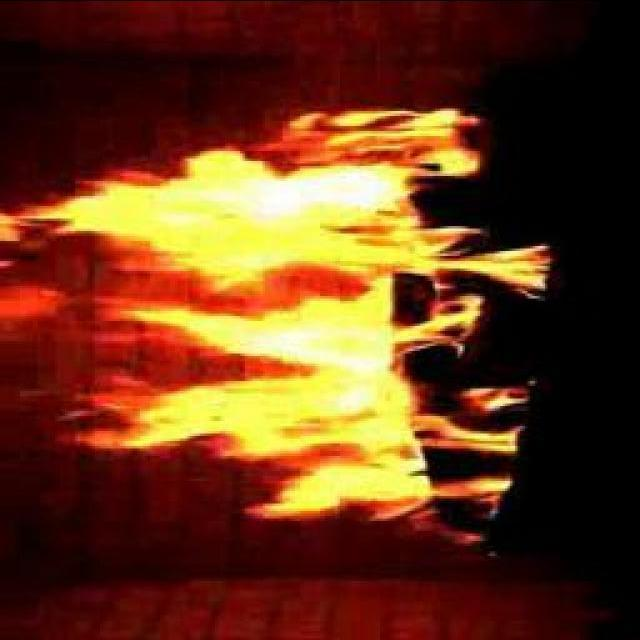Fire: (28, 112, 444, 516)
